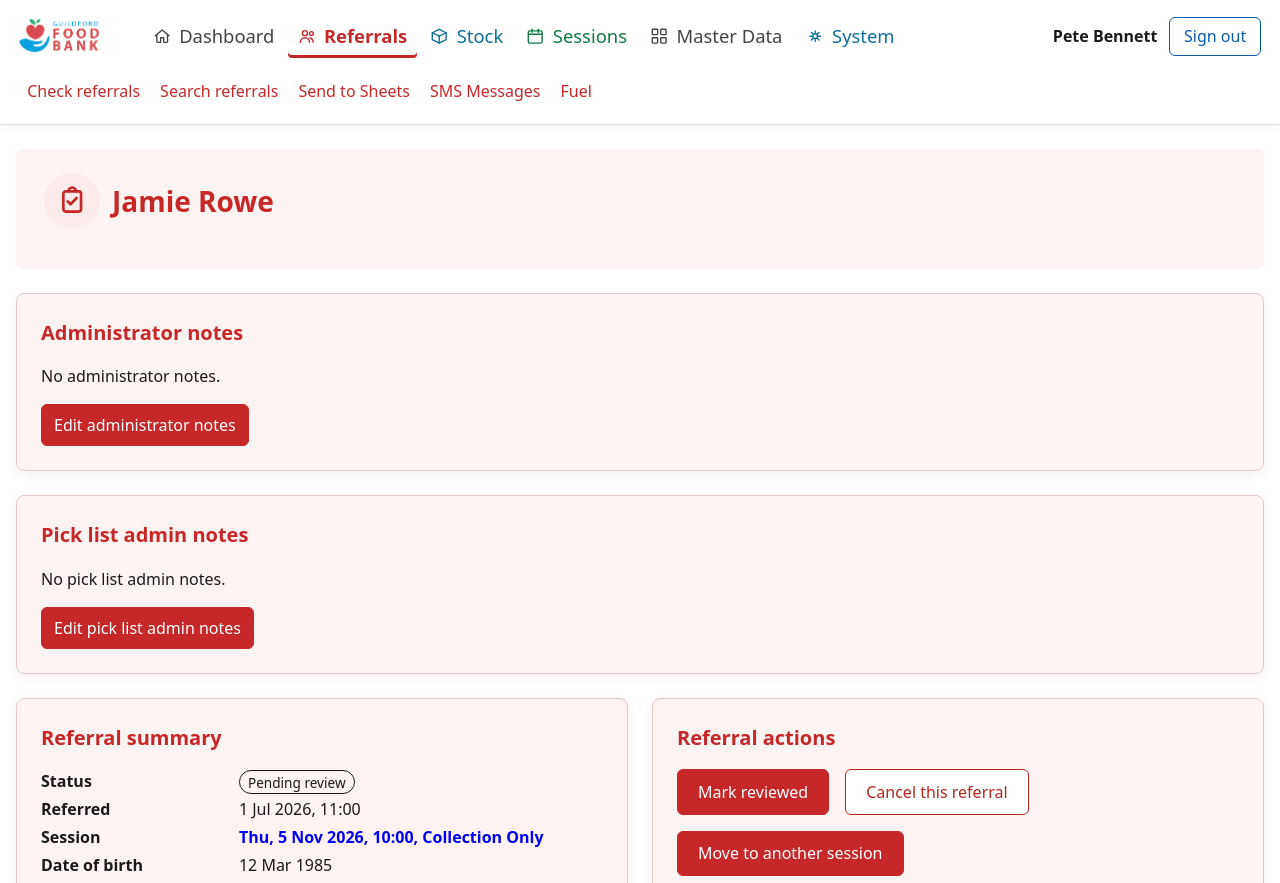
Test case: the admin referral detail screen › marks an active referral reviewed from one button, beside the other actions
The image size is (1280, 883).
Click the button "Mark reviewed".
click(753, 792)  # box [677,769,829,814]
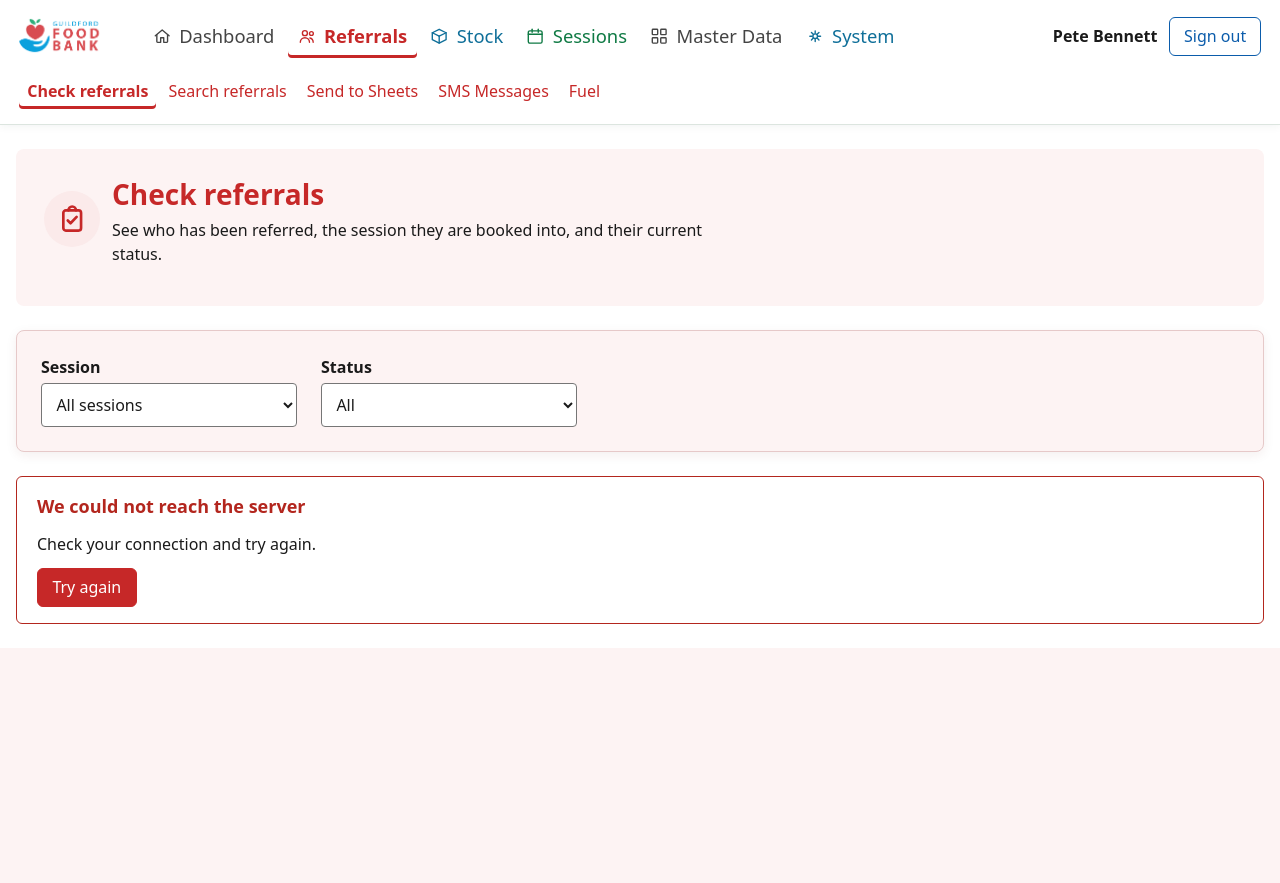
Now the button "Mark reviewed" is gone
